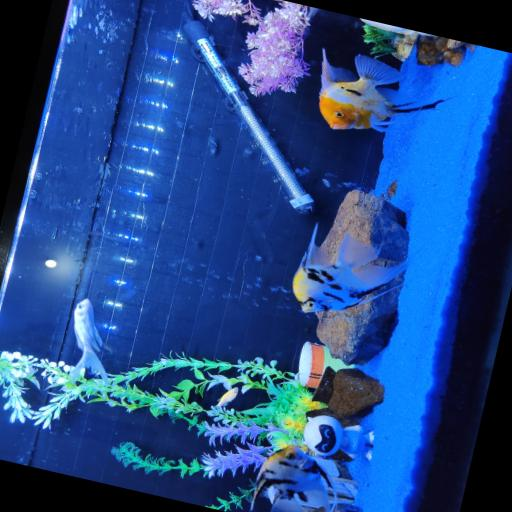Fish: (320, 48, 443, 131), (293, 223, 407, 311), (251, 444, 331, 511), (70, 298, 109, 384), (217, 387, 238, 406)
